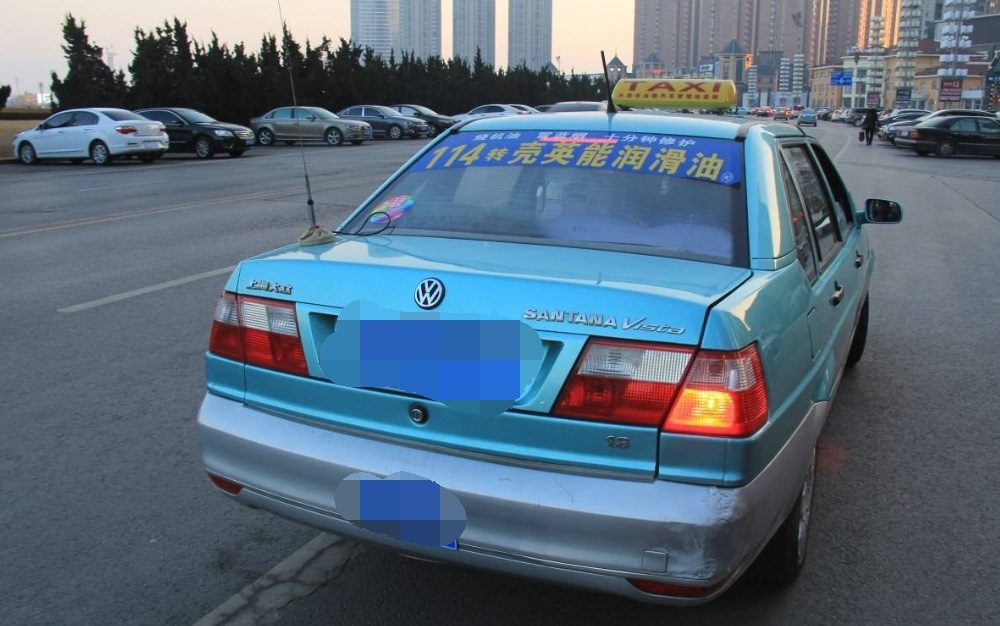taxi: (206, 83, 885, 600)
